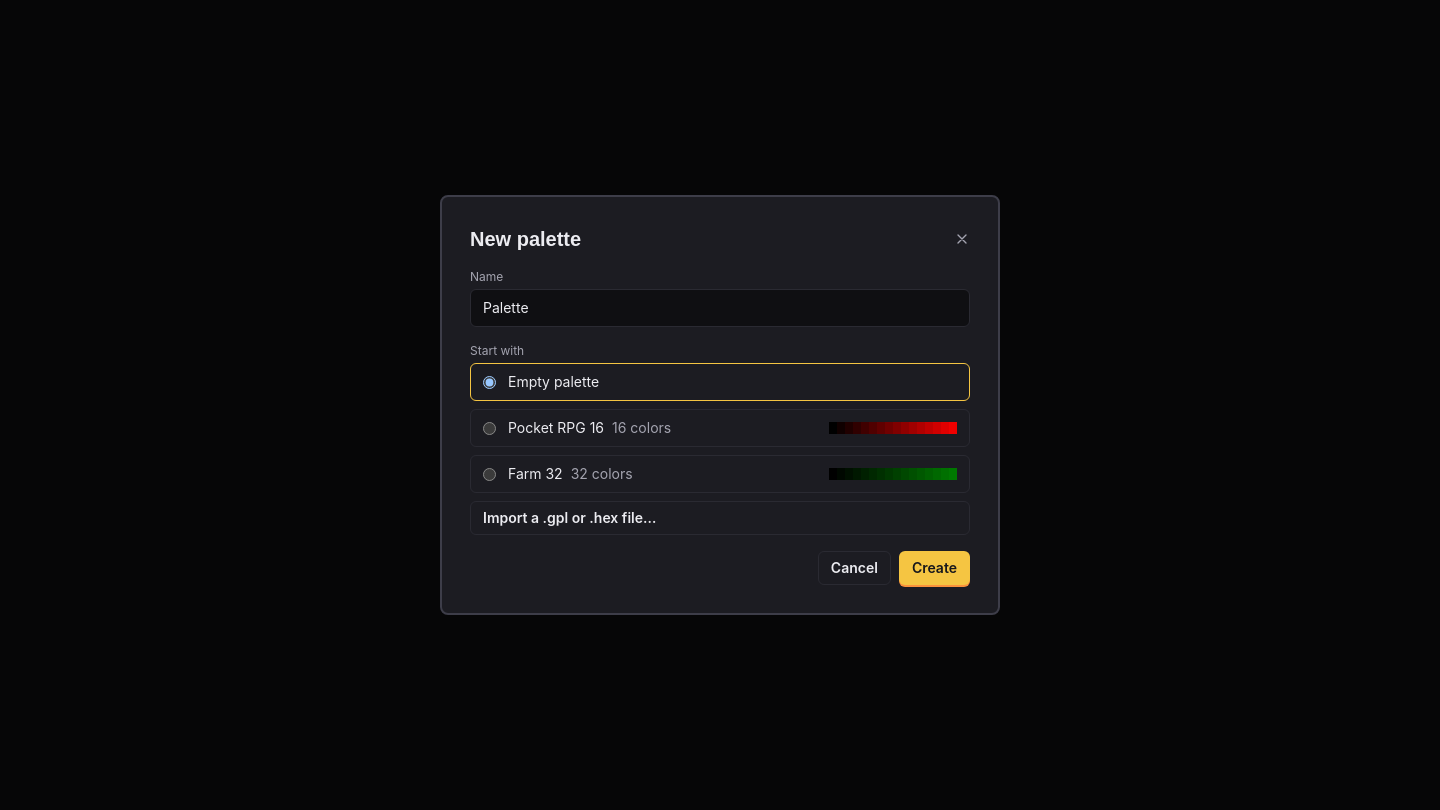
Test case: New palette dialog › shows why a file could not be imported
Click the button "Import a .gpl or .hex file…": (570, 518) [470, 501, 970, 535]
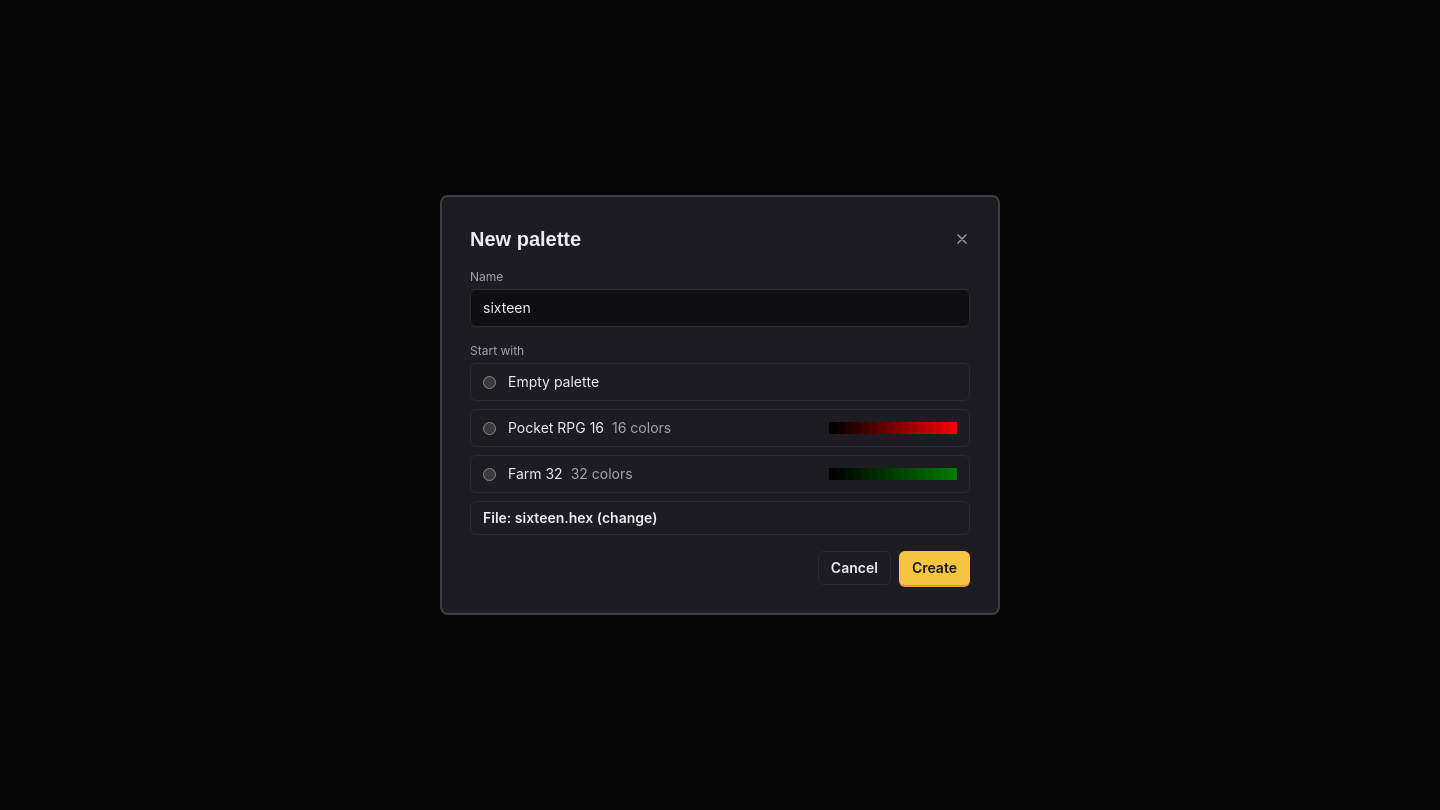
Expected: the button "File: sixteen.hex (change)" is shown, [470, 501, 970, 535]
Click the button "Create": (934, 568) [899, 551, 970, 585]
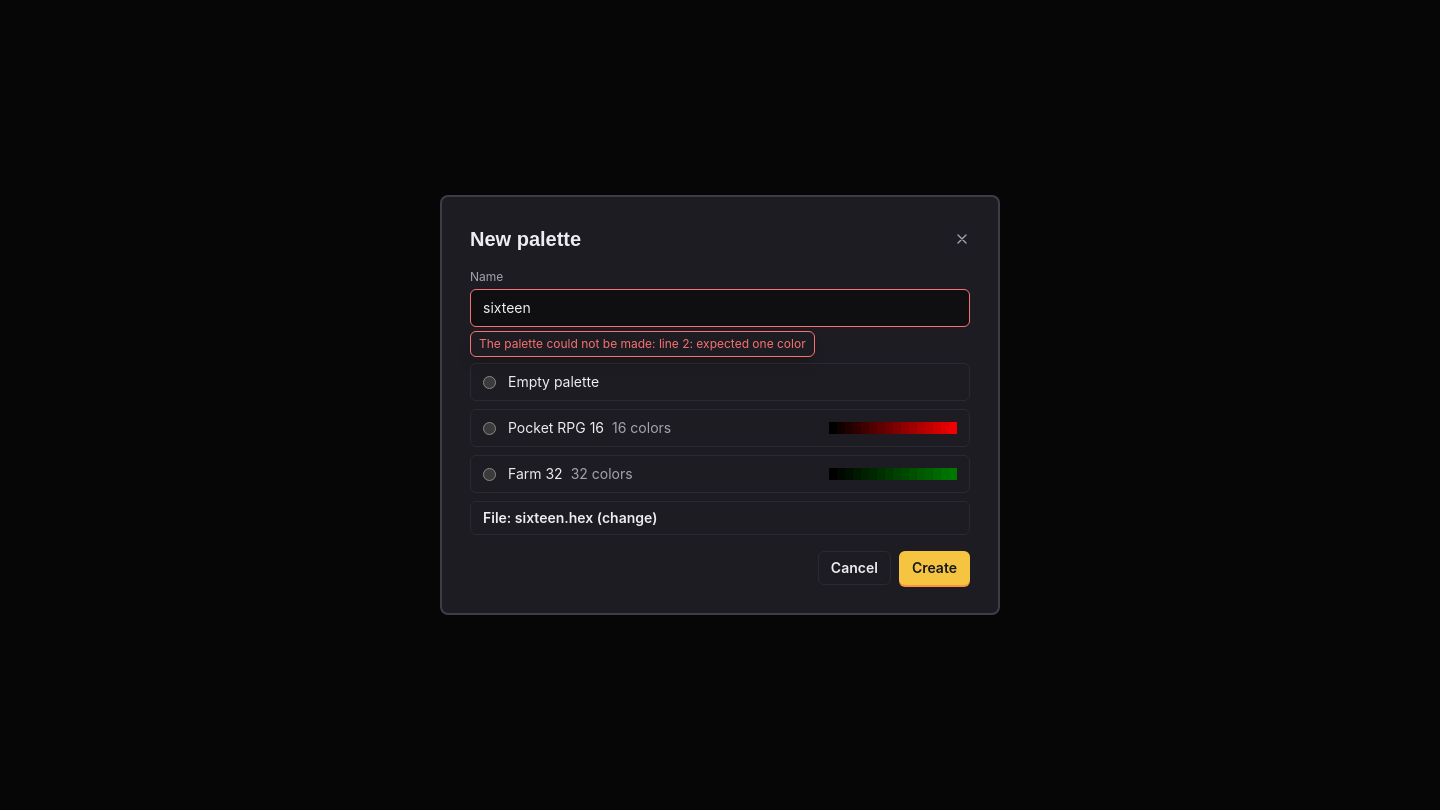
Expected: the text "The palette could not be made: line 2: expected one color" is shown, [470, 331, 815, 357]
